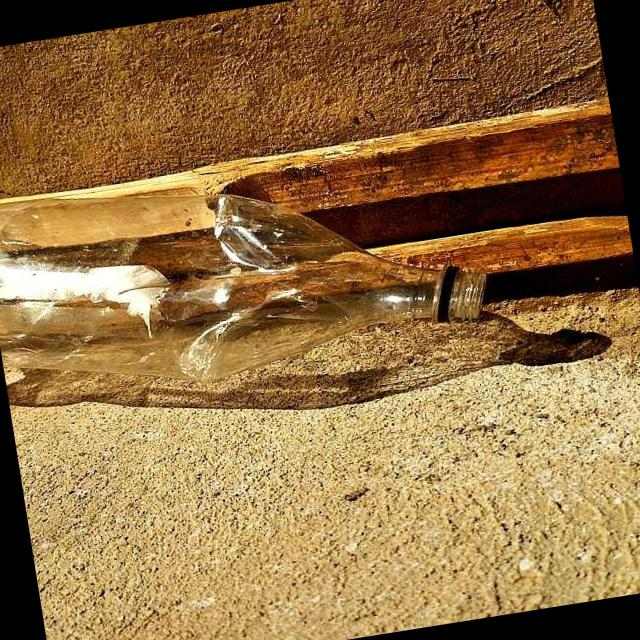Non-biodegradable: (1, 134, 496, 416)
